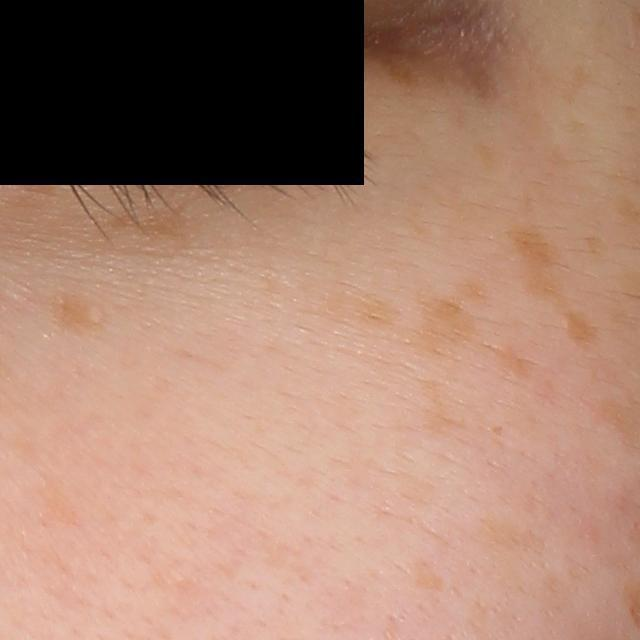melasma: (509, 227, 589, 357), (386, 46, 515, 107), (104, 205, 190, 258), (418, 298, 480, 369), (475, 514, 555, 563), (423, 375, 463, 441), (472, 342, 531, 384)
